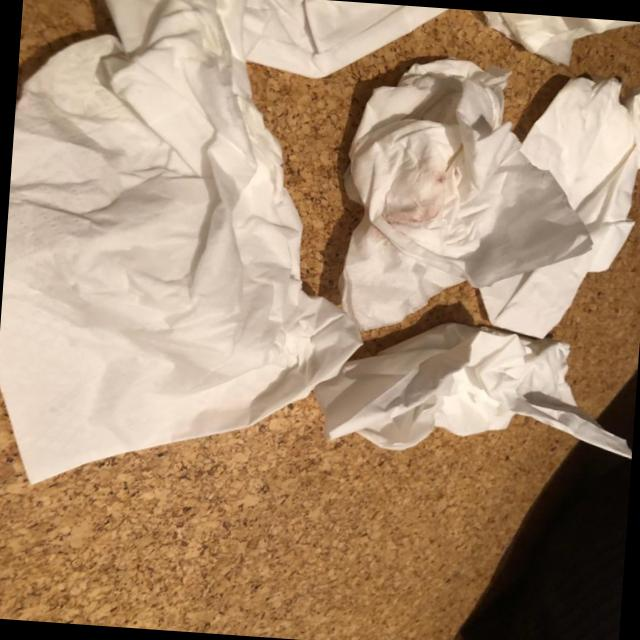organic waste: (0, 0, 386, 505), (326, 50, 606, 352), (310, 313, 640, 465), (486, 65, 640, 345), (239, 0, 447, 90), (470, 10, 640, 80)
